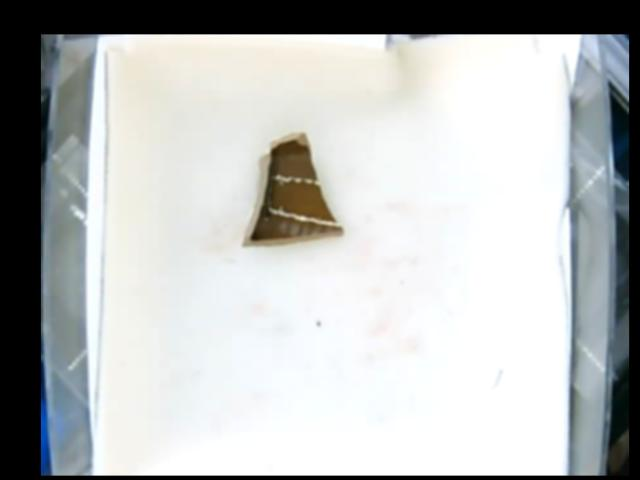China: (242, 132, 342, 250)
